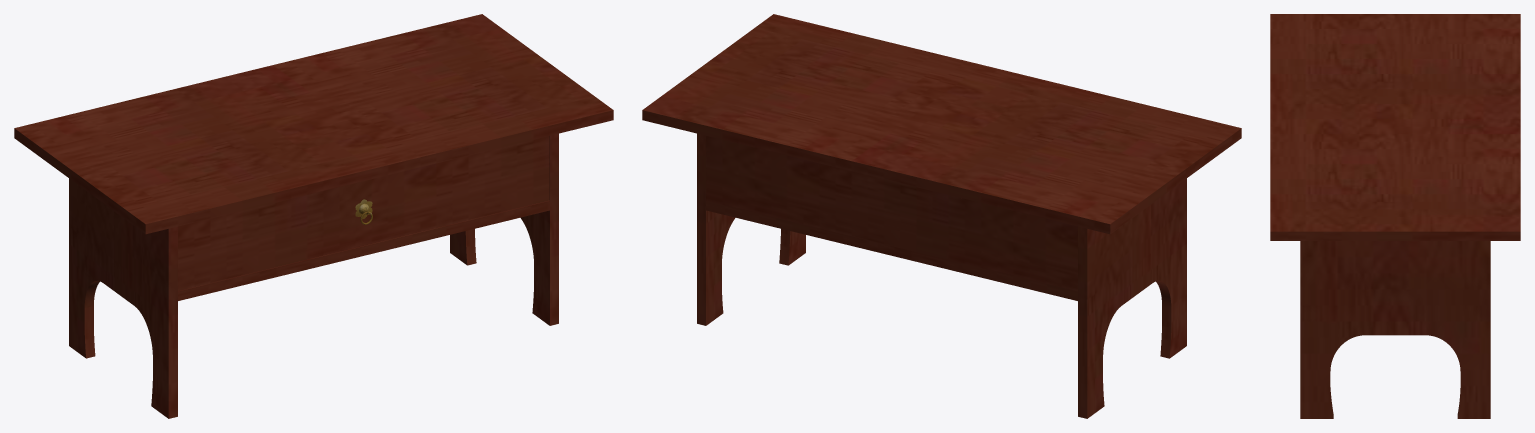
The model's file is WoodenDesk.FBX.
3 renders of one model, left to right at view 1: azimuth 30°, elevation 25°; view 2: azimuth 150°, elevation 25°; view 3: azimuth 270°, elevation 25°, orthographic. The views are drawn at different scales.
Visible parts, largest first — view 1: 나무 책상, 책상 서랍; view 2: 나무 책상; view 3: 나무 책상.
Part boxes in pixels (<box>): 나무 책상: <box>14,14,613,418</box>; 책상 서랍: <box>178,136,549,290</box>; 나무 책상: <box>642,14,1241,418</box>; 나무 책상: <box>1270,14,1520,418</box>.
Bounding box in the file's own units: 75.25 × 33.14 × 36.58.
